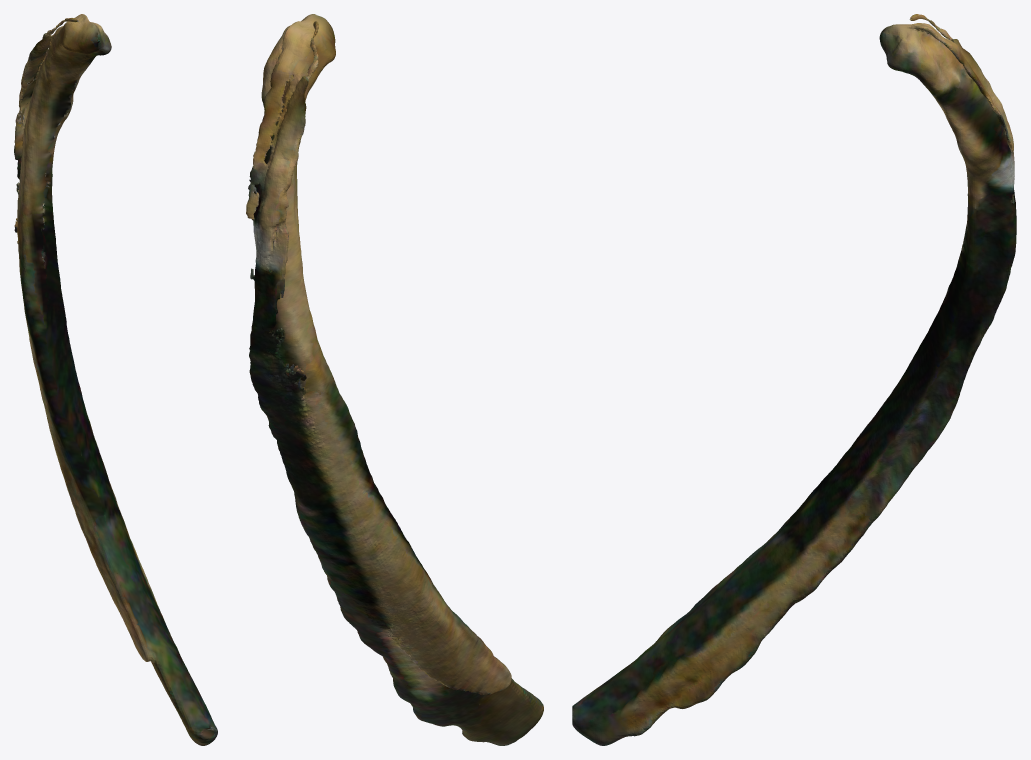
File: 16_ribs.glb
3 renders of one model, left to right at view 1: azimuth 30°, elevation 25°; view 2: azimuth 150°, elevation 25°; view 3: azimuth 270°, elevation 25°, orthographic. The views are drawn at different scales.
Visible parts, largest first — view 1: Node; view 2: Node; view 3: Node.
Boxes of the visible parts, x1,y1,x2,y2 form: Node: (14, 14, 217, 745); Node: (246, 14, 543, 745); Node: (572, 14, 1016, 745).
Size of the model in its own units: 6.77 by 55.57 by 30.55.
Materials: 1 (1 with a texture image).
